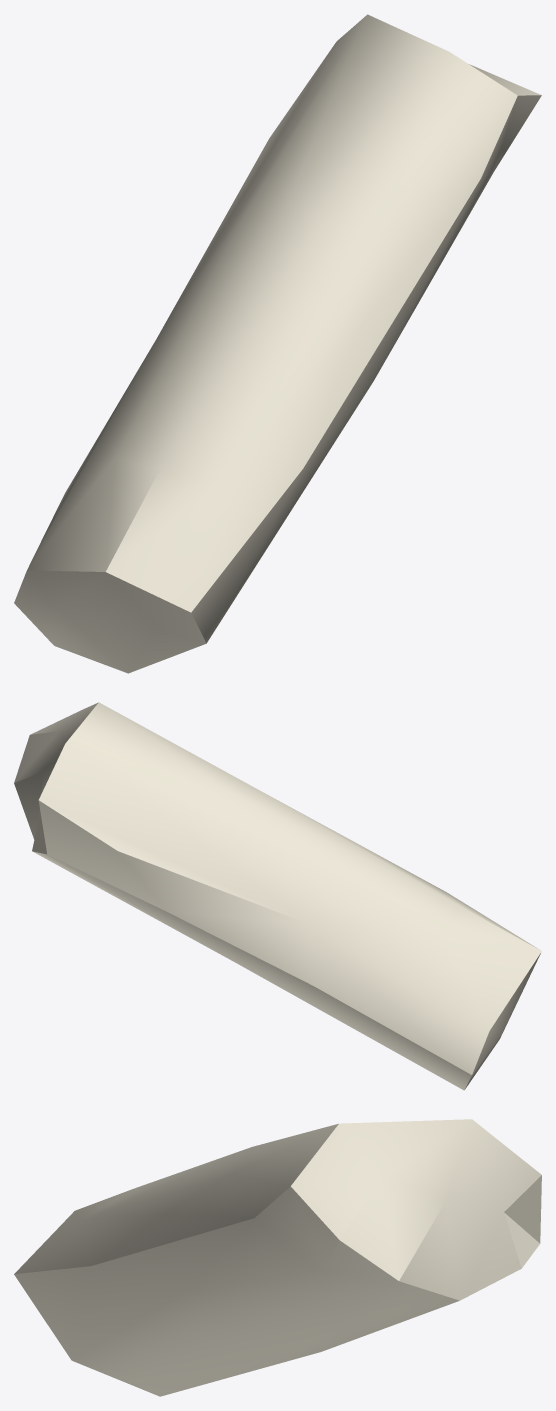
Rendered from fma60891_mm1042m.glb.
3 views of the same model, one above another, from view 1: azimuth 30°, elevation 25°; view 2: azimuth 150°, elevation 25°; view 3: azimuth 270°, elevation 25° (orthographic). The views are drawn at different scales.
Visible parts, largest first — view 1: FMA60891_MM1042M; view 2: FMA60891_MM1042M; view 3: FMA60891_MM1042M.
Boxes of the visible parts, x1,y1,x2,y2 form: FMA60891_MM1042M: (14, 14, 541, 673); FMA60891_MM1042M: (14, 702, 541, 1090); FMA60891_MM1042M: (14, 1119, 541, 1396).
Size of the model in its own units: 0.00125 by 0.00097 by 0.000966.
